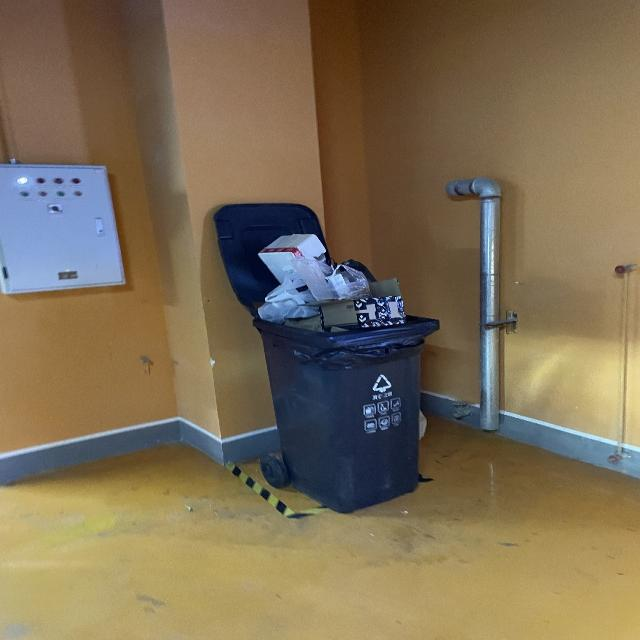overflow: (251, 234, 441, 513)
